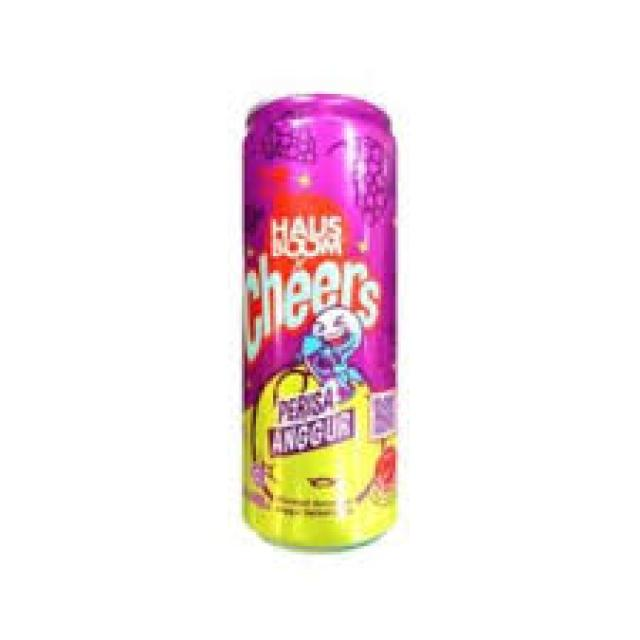Cans: (233, 85, 407, 558)
